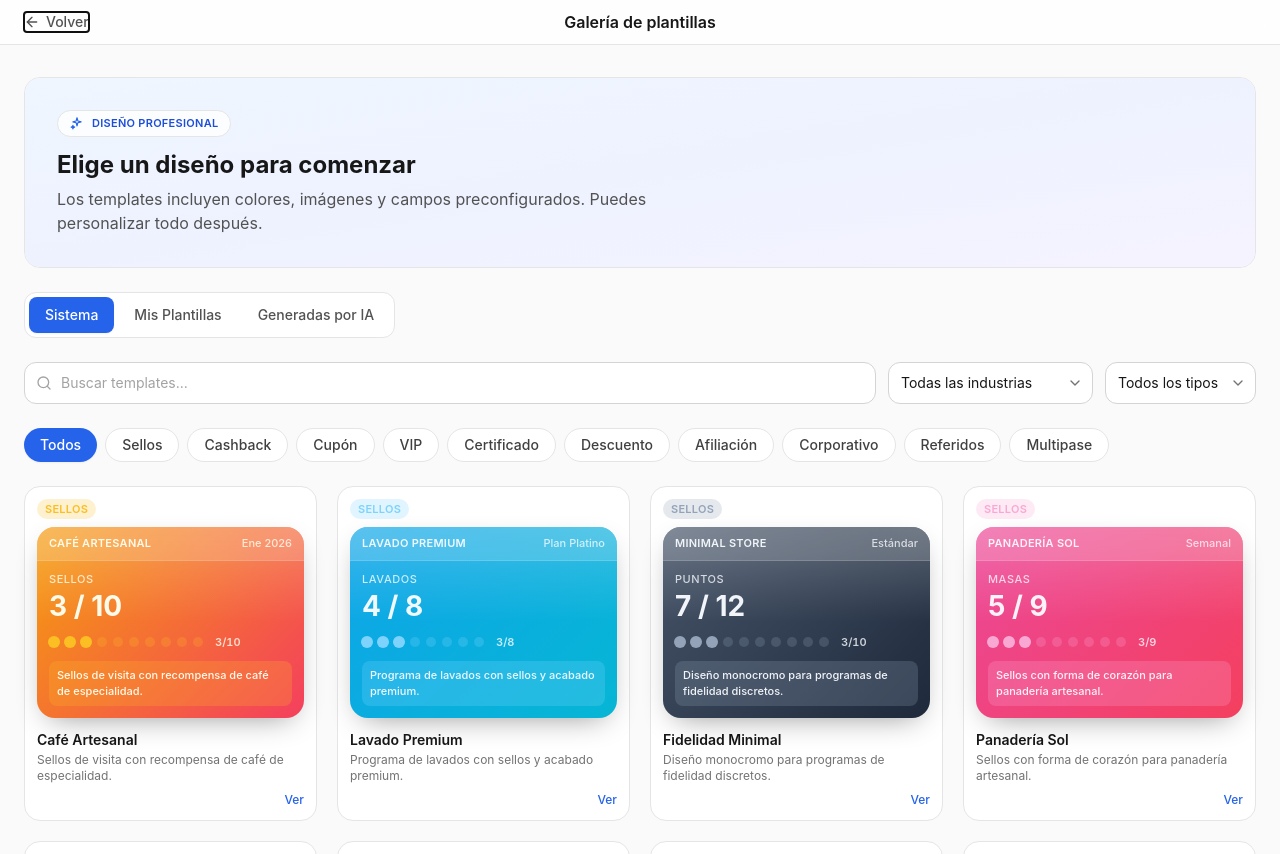
TemplateGallery › shows empty state when search has no results
In the field with test id "gallery-search-input": (450, 382) [24,362,876,404], type "xyznonexistent"
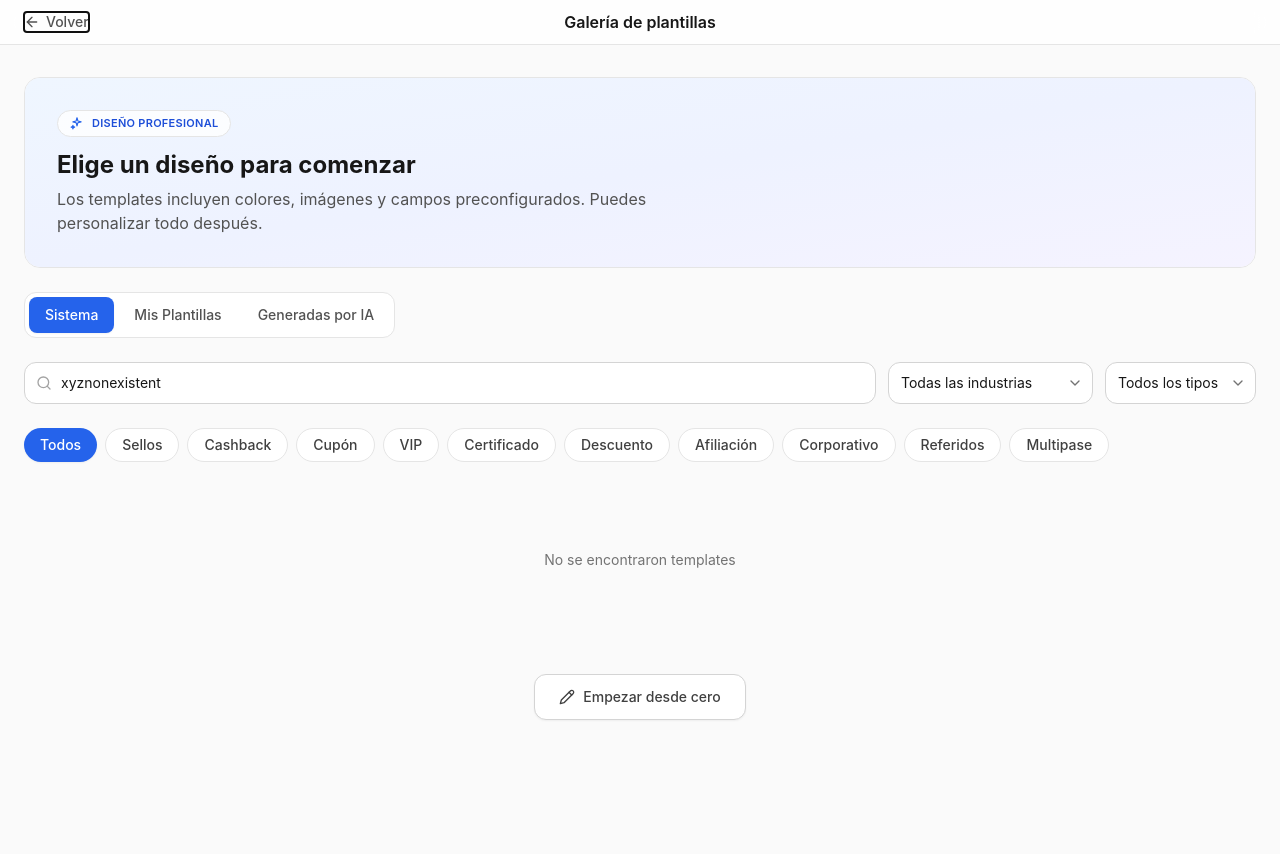
expect the element with test id "gallery-empty" is shown: met, box [544,550,736,568]
